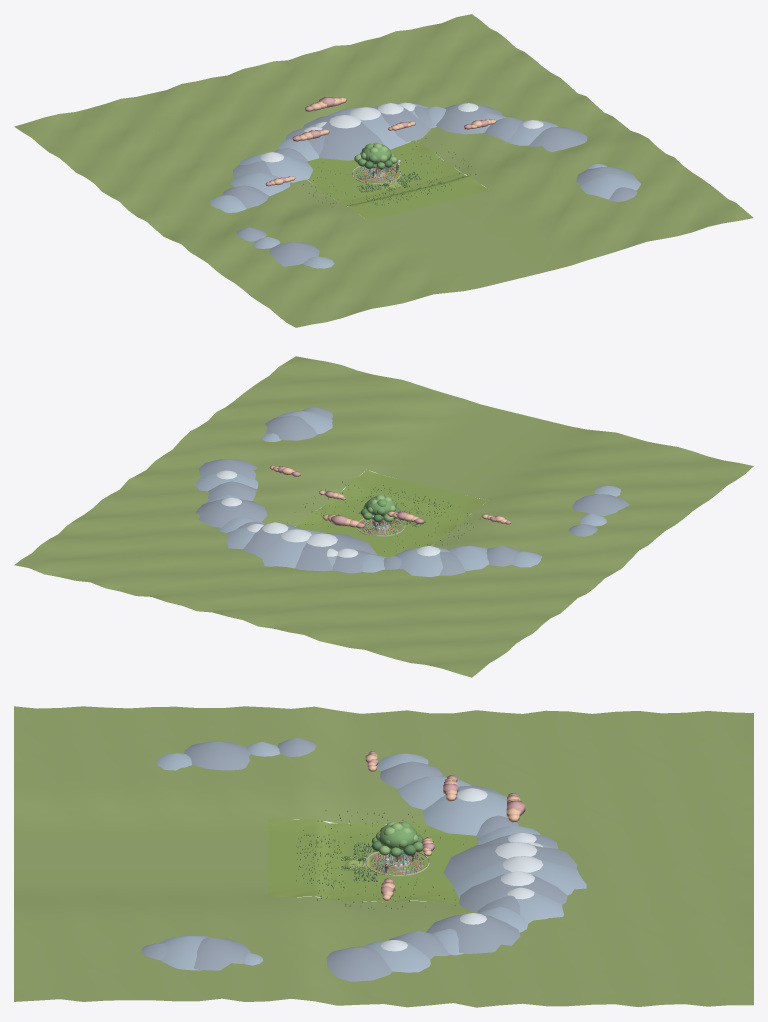
The model's file is cine_finale.glb.
The picture shows the model from 3 angles, top to bottom: view 1: azimuth 30°, elevation 25°; view 2: azimuth 150°, elevation 25°; view 3: azimuth 270°, elevation 25°; orthographic projection. The views are drawn at different scales.
Parts seen in each view (by area): view 1: ground_far, far_mount_d_far, ground_mid, far_mount_far, far_mount_l_far, sky_cloud_p_far; view 2: ground_far, far_mount_d_far, ground_mid, far_mount_far, far_mount_l_far, sky_cloud_p_far, sky_cloud_s_far; view 3: ground_far, far_mount_d_far, ground_mid, far_mount_far, far_mount_l_far, sky_cloud_p_far, erpien_eld_leaf_far, sky_cloud_s_far, erpien_erk_wall_far.
Boxes of the visible parts, x1,y1,x2,y2 form: ground_far: [14, 14, 753, 327]; far_mount_d_far: [222, 104, 637, 266]; ground_mid: [307, 140, 488, 219]; far_mount_far: [209, 103, 640, 268]; far_mount_l_far: [260, 102, 543, 162]; sky_cloud_p_far: [269, 97, 496, 185]; ground_far: [14, 356, 753, 677]; far_mount_d_far: [195, 407, 629, 575]; ground_mid: [295, 470, 488, 557]; far_mount_far: [195, 410, 620, 576]; far_mount_l_far: [216, 470, 440, 557]; sky_cloud_p_far: [269, 465, 507, 527]; sky_cloud_s_far: [277, 466, 510, 528]; ground_far: [14, 706, 753, 1007]; far_mount_d_far: [141, 738, 577, 981]; ground_mid: [268, 819, 477, 902]; far_mount_far: [157, 742, 586, 972]; far_mount_l_far: [381, 788, 543, 951]; sky_cloud_p_far: [365, 753, 521, 900]; erpien_eld_leaf_far: [371, 821, 422, 857]; sky_cloud_s_far: [368, 751, 525, 894]; erpien_erk_wall_far: [367, 851, 429, 876].
Bounding box in the file's own units: 6000 × 565 × 6400.
